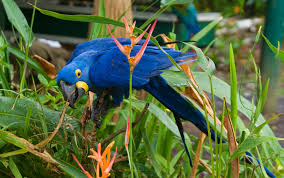guacamaya: (55, 36, 189, 108)
